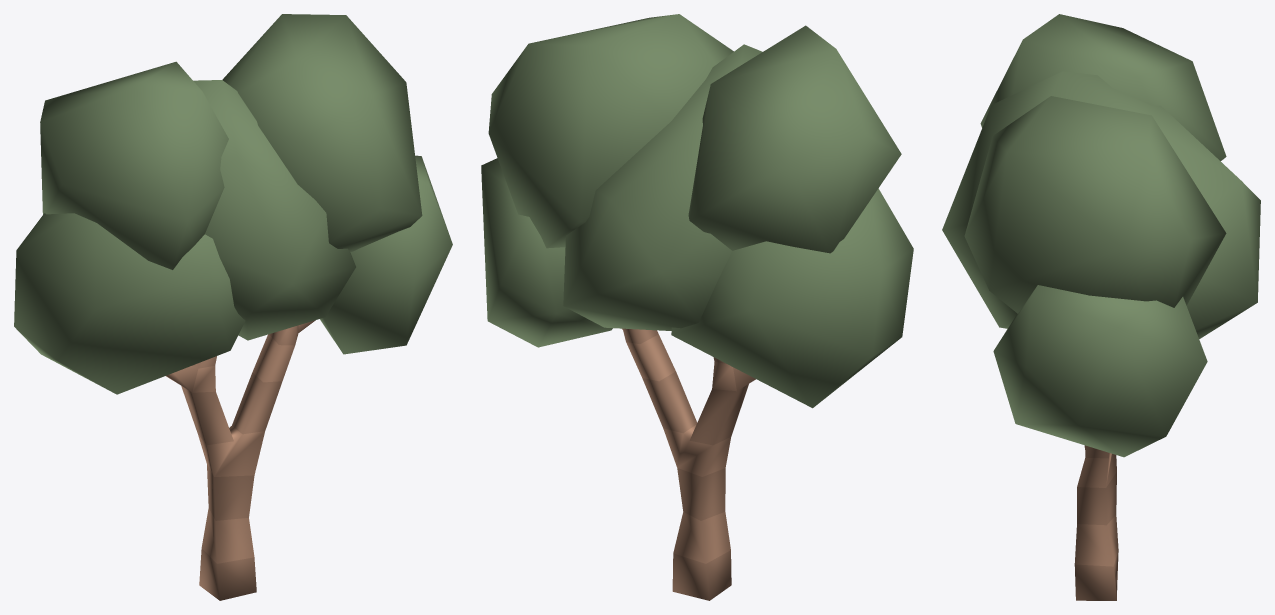
File: дуб_soft.fbx
The picture shows the model from 3 angles, left to right: view 1: azimuth 30°, elevation 25°; view 2: azimuth 150°, elevation 25°; view 3: azimuth 270°, elevation 25°; orthographic projection. The views are drawn at different scales.
Parts seen in each view (by area): view 1: OakTree1.001, OakTree1.003; view 2: OakTree1.001, OakTree1.003; view 3: OakTree1.001, OakTree1.003.
Part boxes in pixels (x1,y1,x2,y2): OakTree1.001: (14, 14, 452, 394); OakTree1.003: (166, 320, 315, 600); OakTree1.001: (481, 14, 913, 408); OakTree1.003: (622, 328, 755, 600); OakTree1.001: (942, 14, 1260, 457); OakTree1.003: (1074, 445, 1118, 600).
Size of the model in its own units: 563 by 732 by 403.
